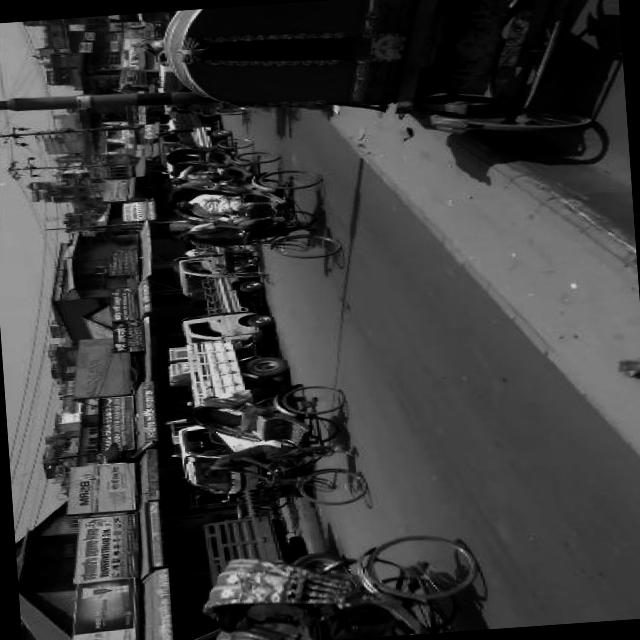motorcycle: (154, 0, 604, 156), (202, 527, 480, 640), (186, 376, 376, 515), (156, 161, 346, 277), (166, 148, 287, 188), (164, 134, 255, 168)
truck: (163, 332, 298, 500), (175, 270, 282, 351)
